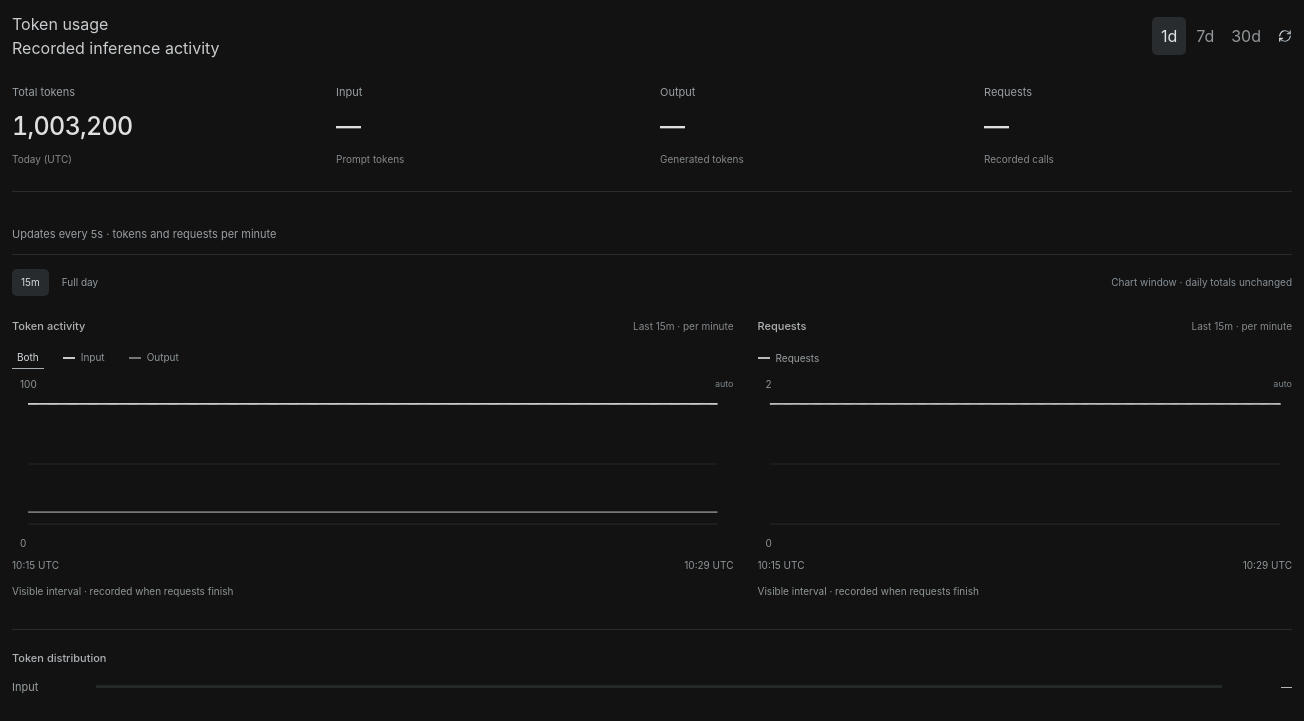
rescales only the visible interval and selected series without changing daily totals
Expected: the picture named "Recorded tokens today (UTC)" is shown, [12,399,734,529]
Click the button "Full day". click: (80, 282)
box: [53,269,107,296]
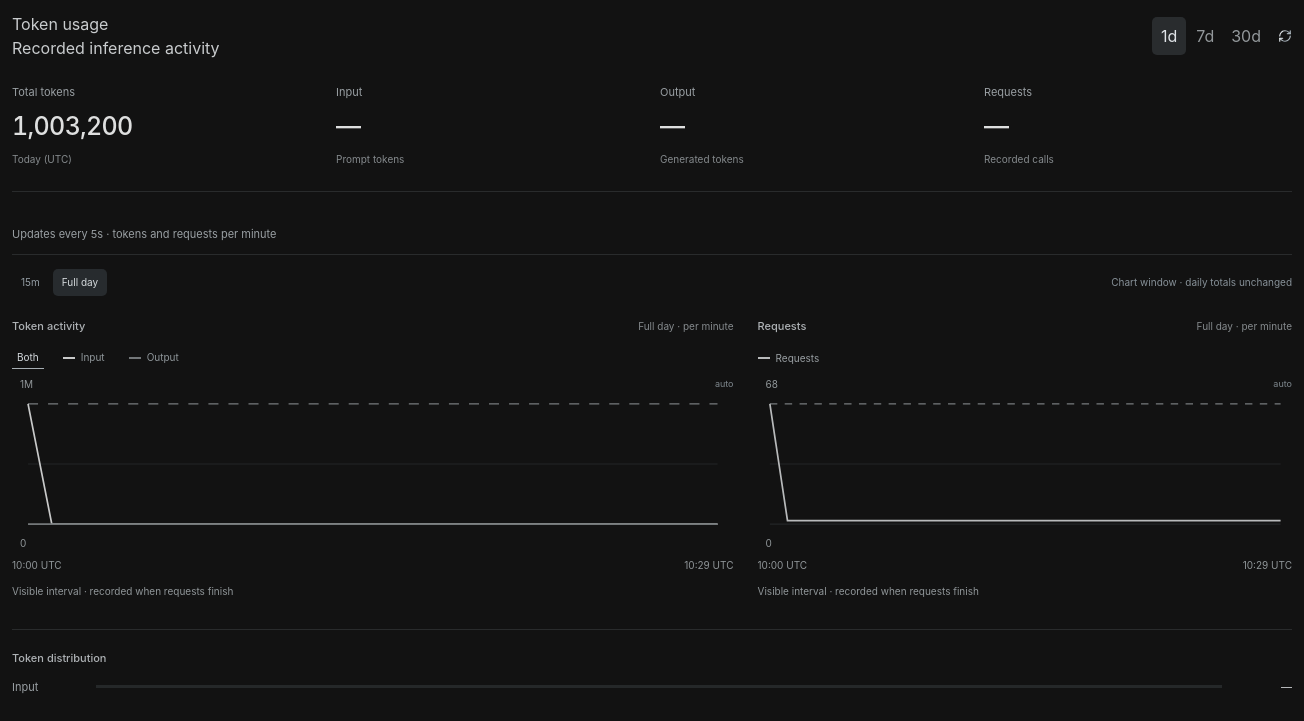
Result: the element with class "token-chart-scale" reads "1M auto" at [12,377,734,392]
Click the button named "Last 15 minutes". click: (30, 282)
box: [12,269,49,296]
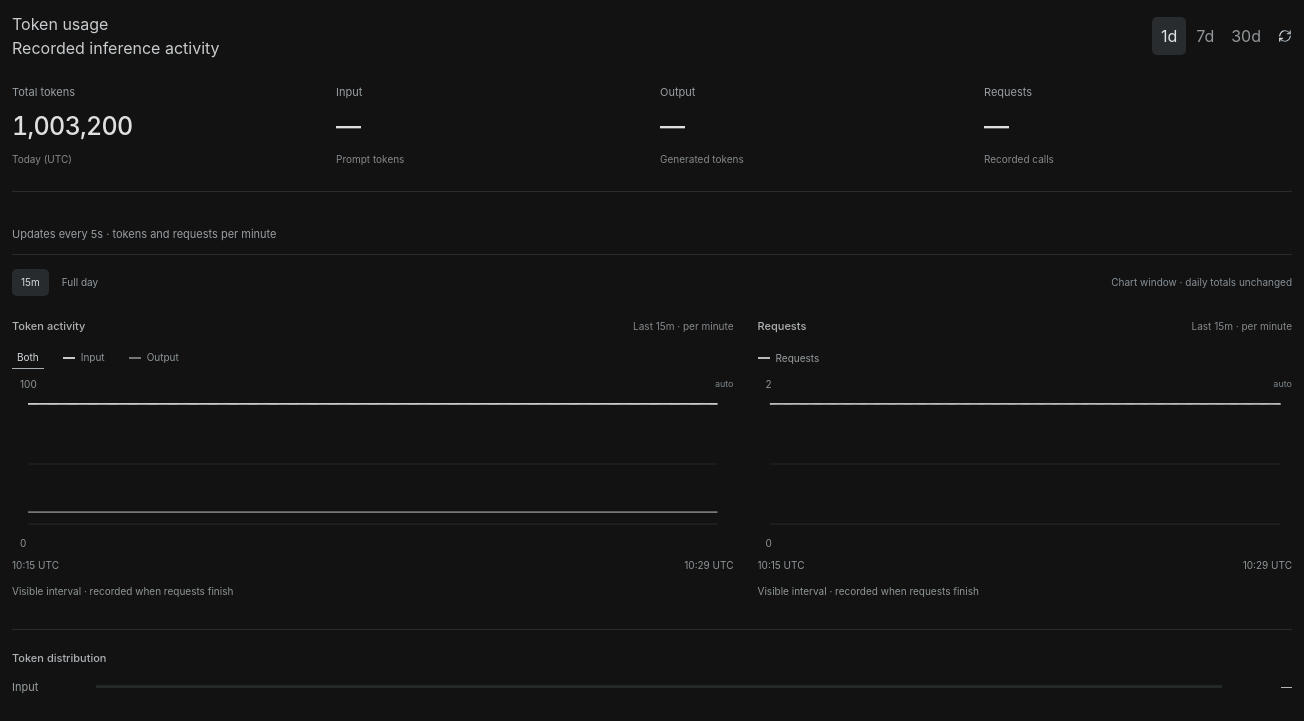
Click the button with aria-label "Output tokens only". click: (154, 358)
box: [124,347,184,369]
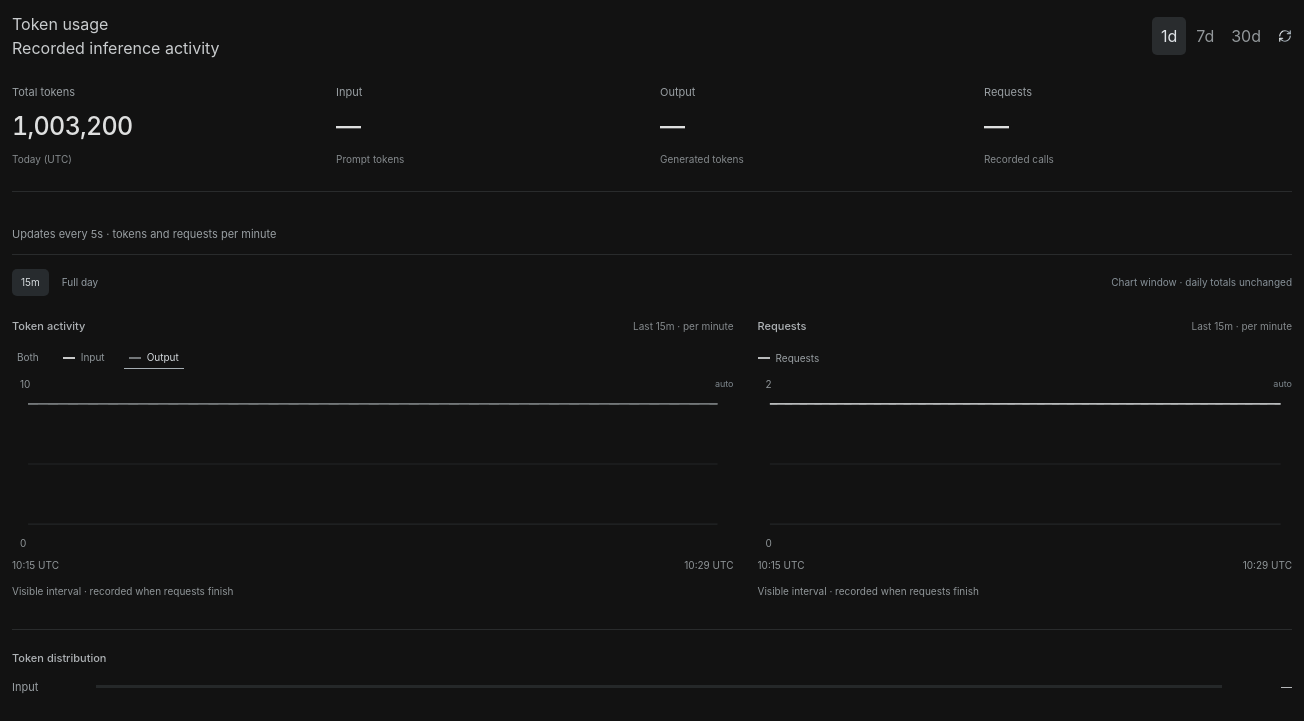
Result: the element with class "token-chart-scale" reads "10 auto" at [12,377,734,392]
Click the button with aria-label "All token series". click: (28, 358)
box: [12,347,44,369]
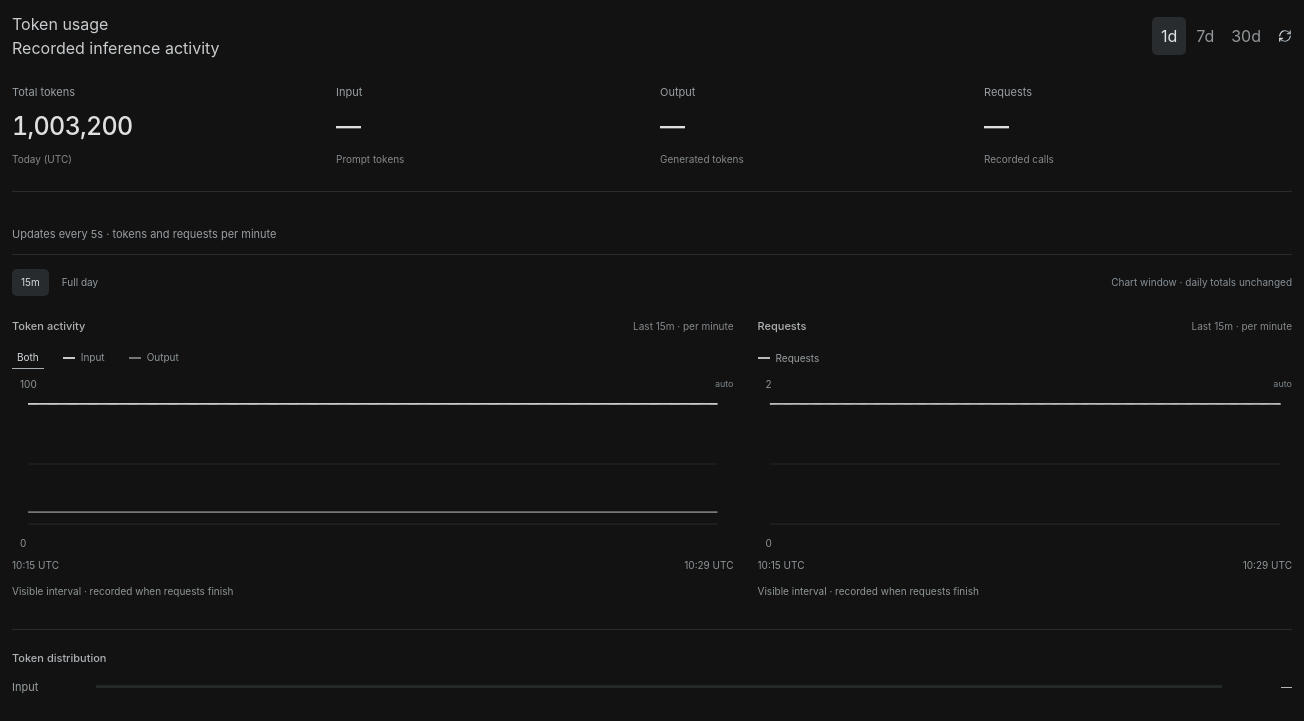
Result: the element with class "token-chart-scale" reads "100 auto" at [12,377,734,392]
